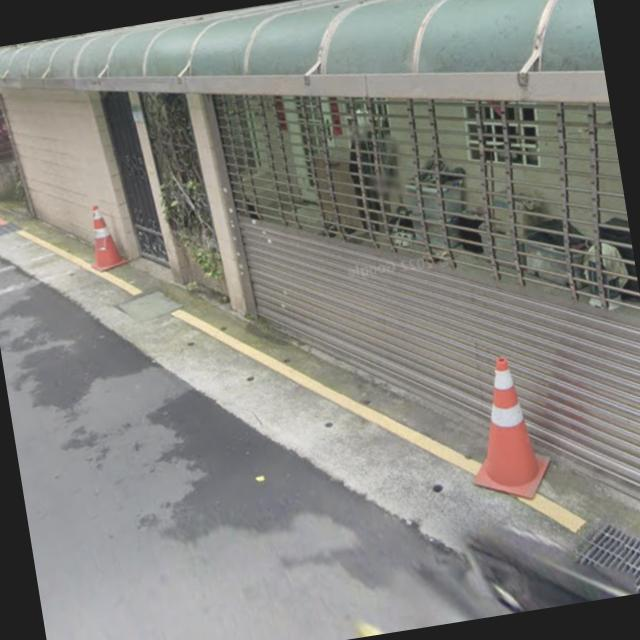cone: (449, 348, 559, 512), (76, 192, 138, 281)
